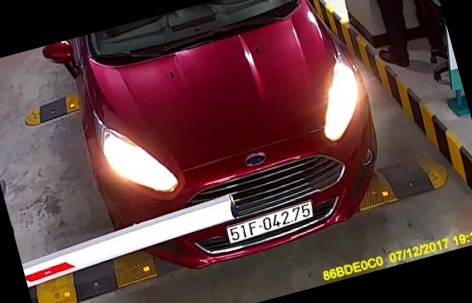plate: (219, 203, 327, 246)
